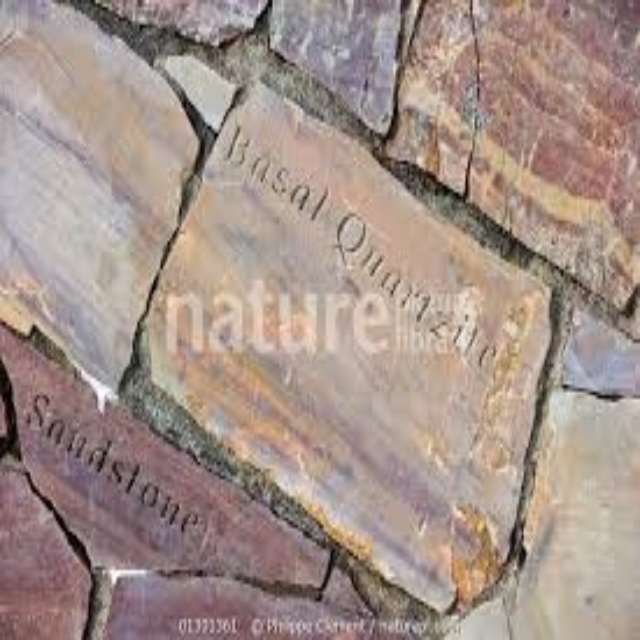obstacle: (147, 84, 549, 609)
